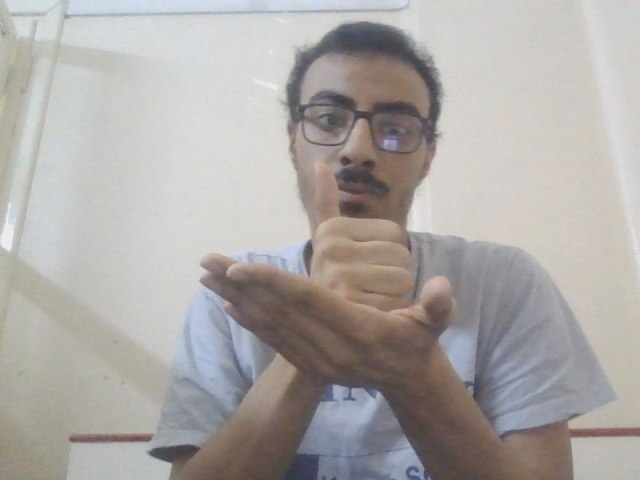Help: (188, 155, 465, 392)
